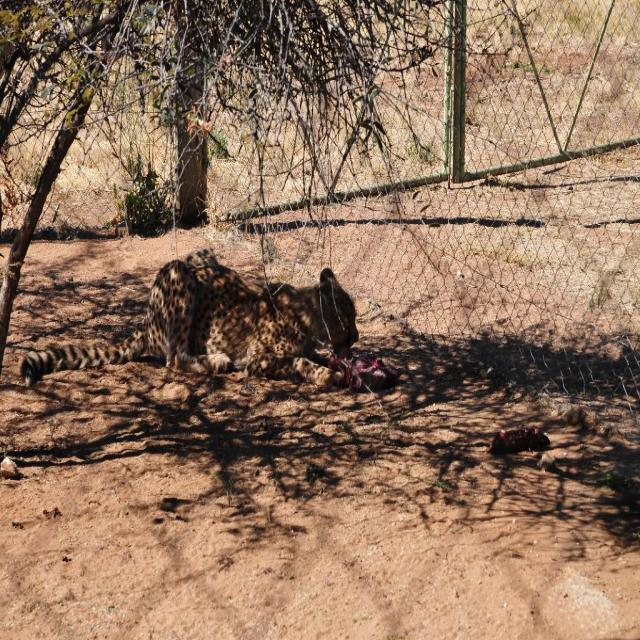Cheetah: (18, 251, 376, 388)
